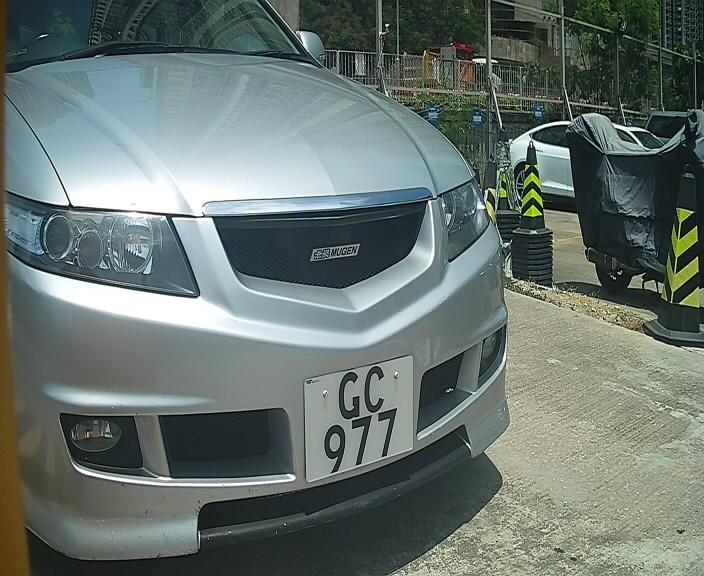License Plate: (287, 350, 431, 489)
